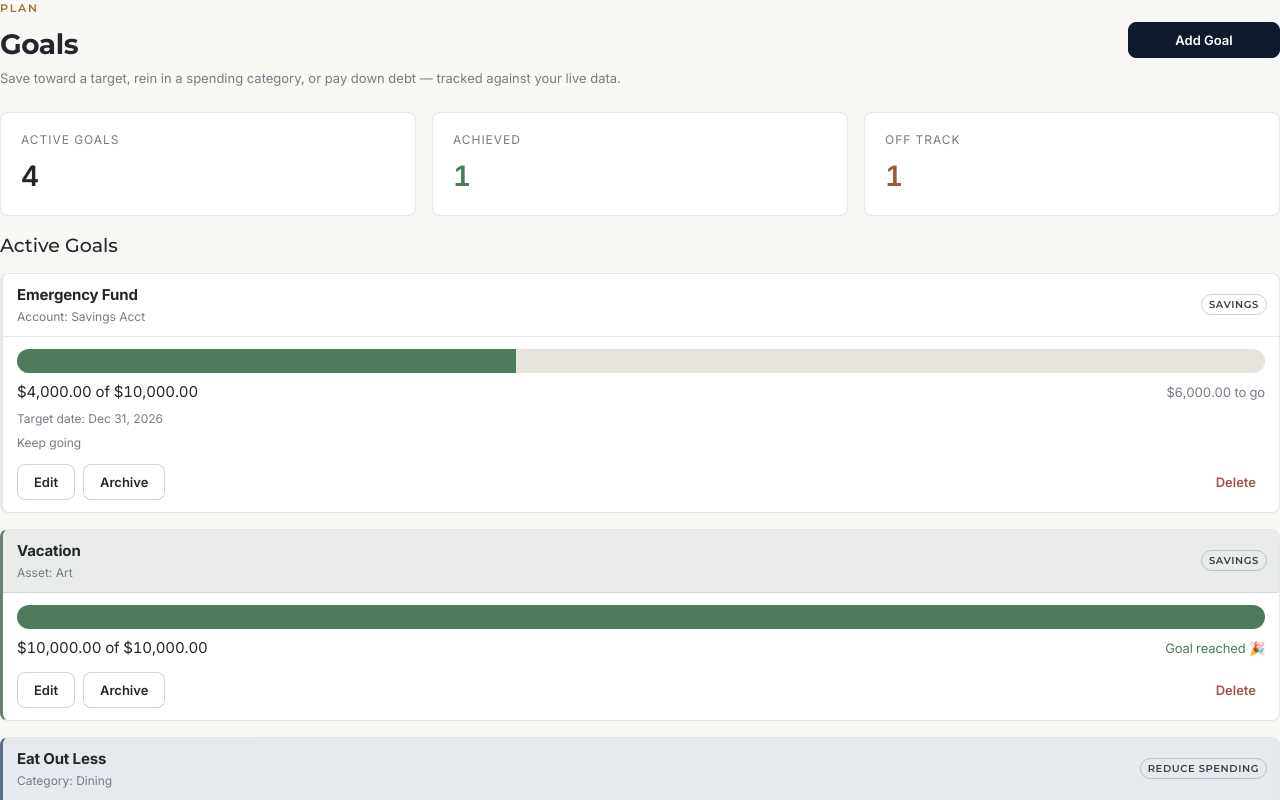
Scenario: Goals page › validates the reduce_spending required fields
Check: the text "Emergency Fund" is shown, box [17,284,145,306]
Click the button with class "head-add": (1204, 40) [1128,22,1279,58]
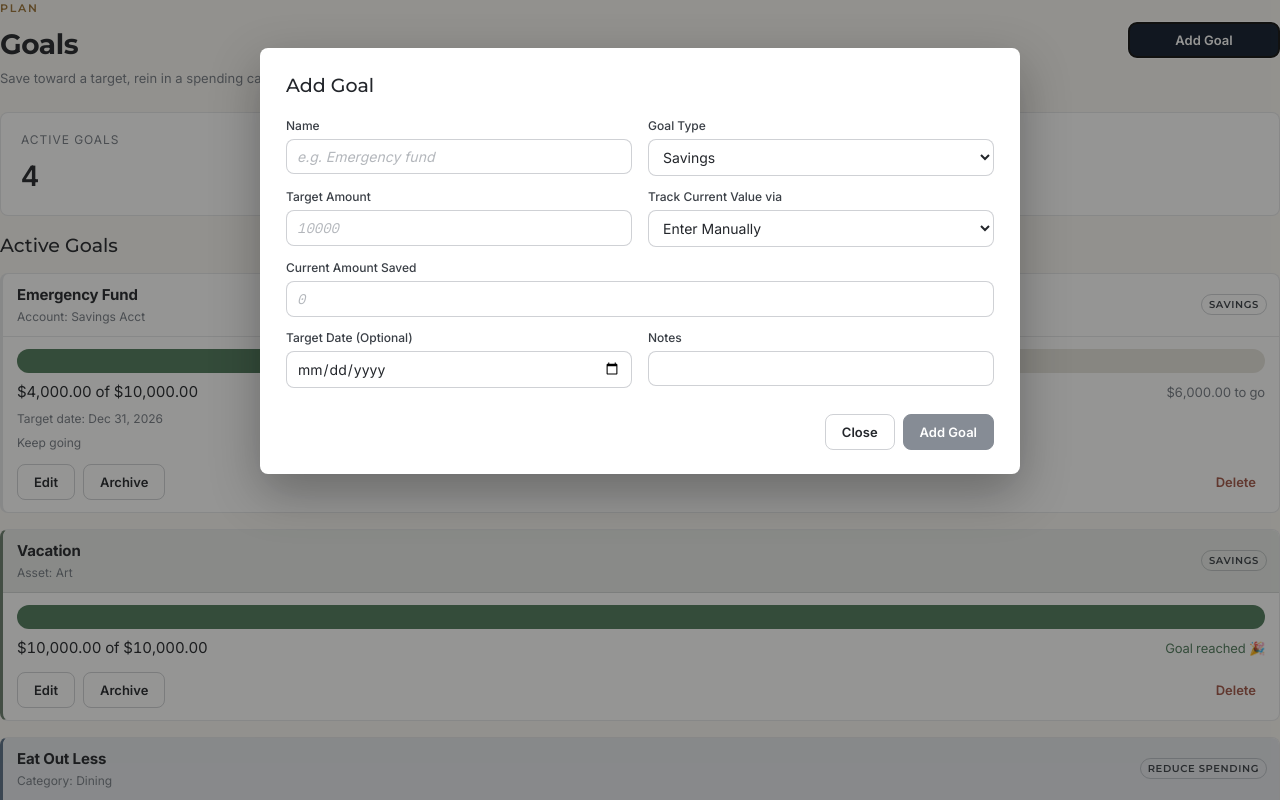
Check: the element that starts with "Add Goal" is shown
In the field with placeholder "e.g. Emergency fund": (459, 156) [286,138,632,174], type "Cap"
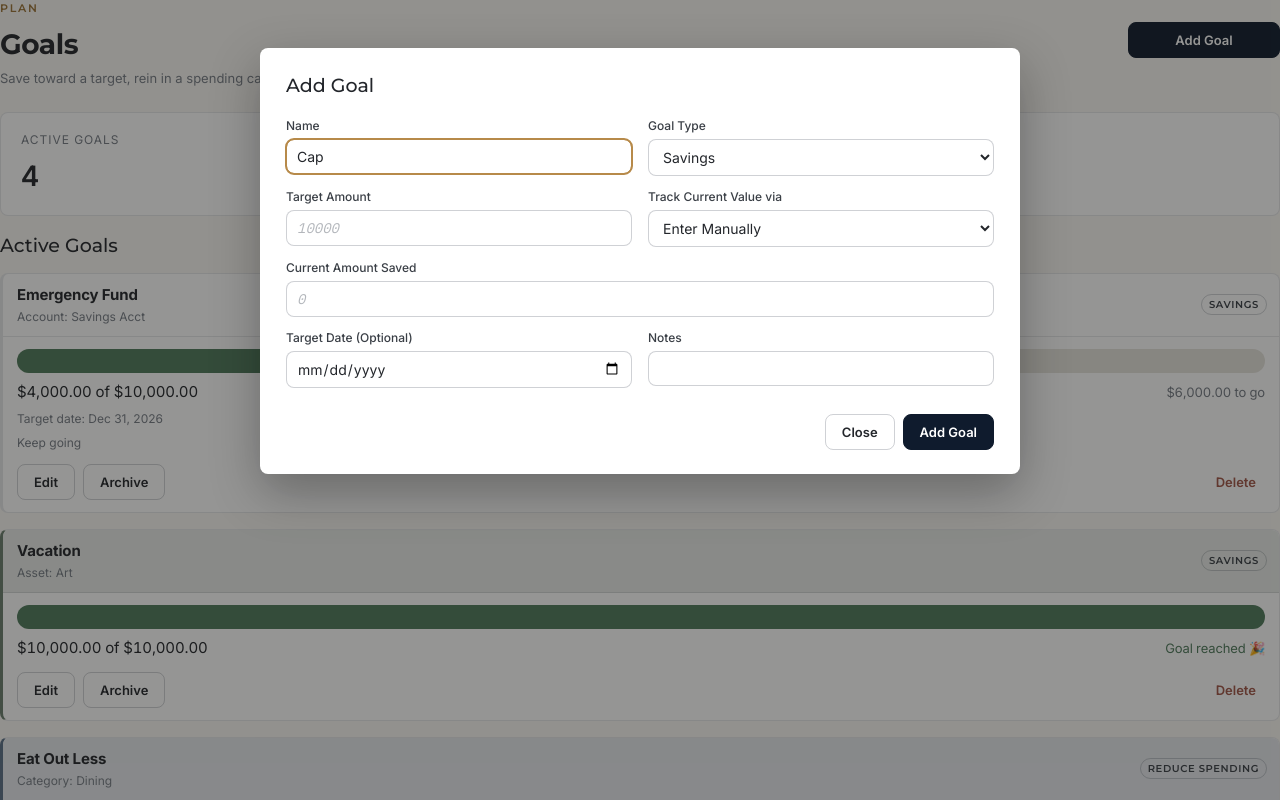
Select "Reduce Spending" in the dropdown showing "Savings": (821, 157) [648,138,994,176]
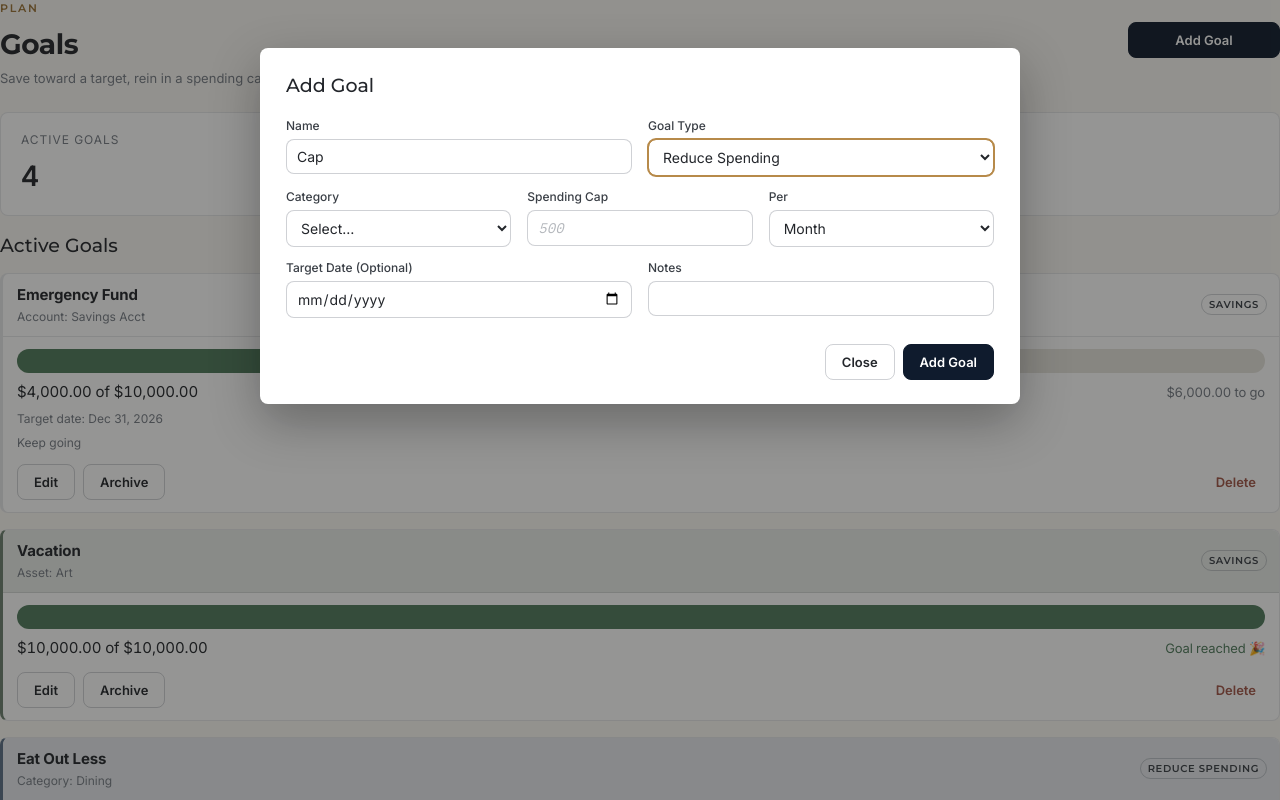
Click the button "Add Goal": (948, 362) [903,344,994,380]
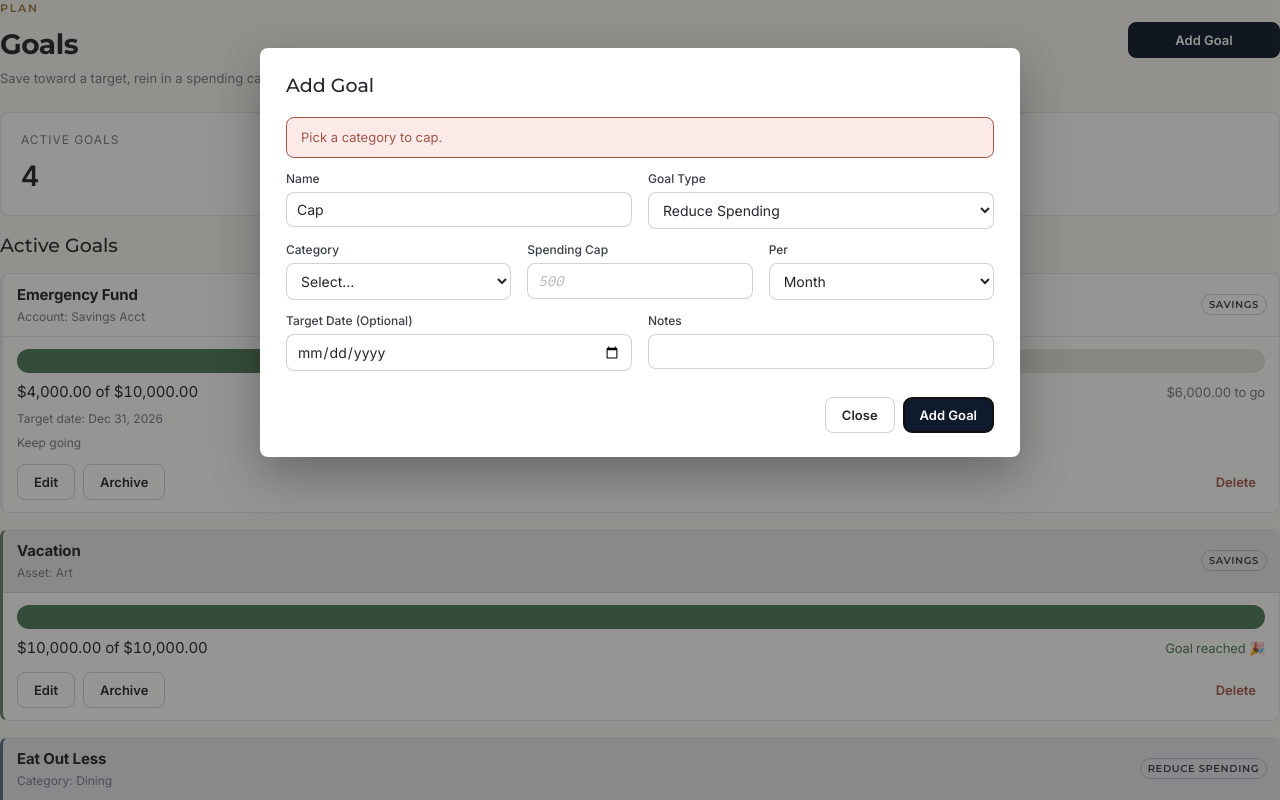
Check: the text "Pick a category to cap." is shown, box [286,116,994,158]
Select "Food (whole group)" in the dropdown "Select…": (399, 282) [286,263,511,300]
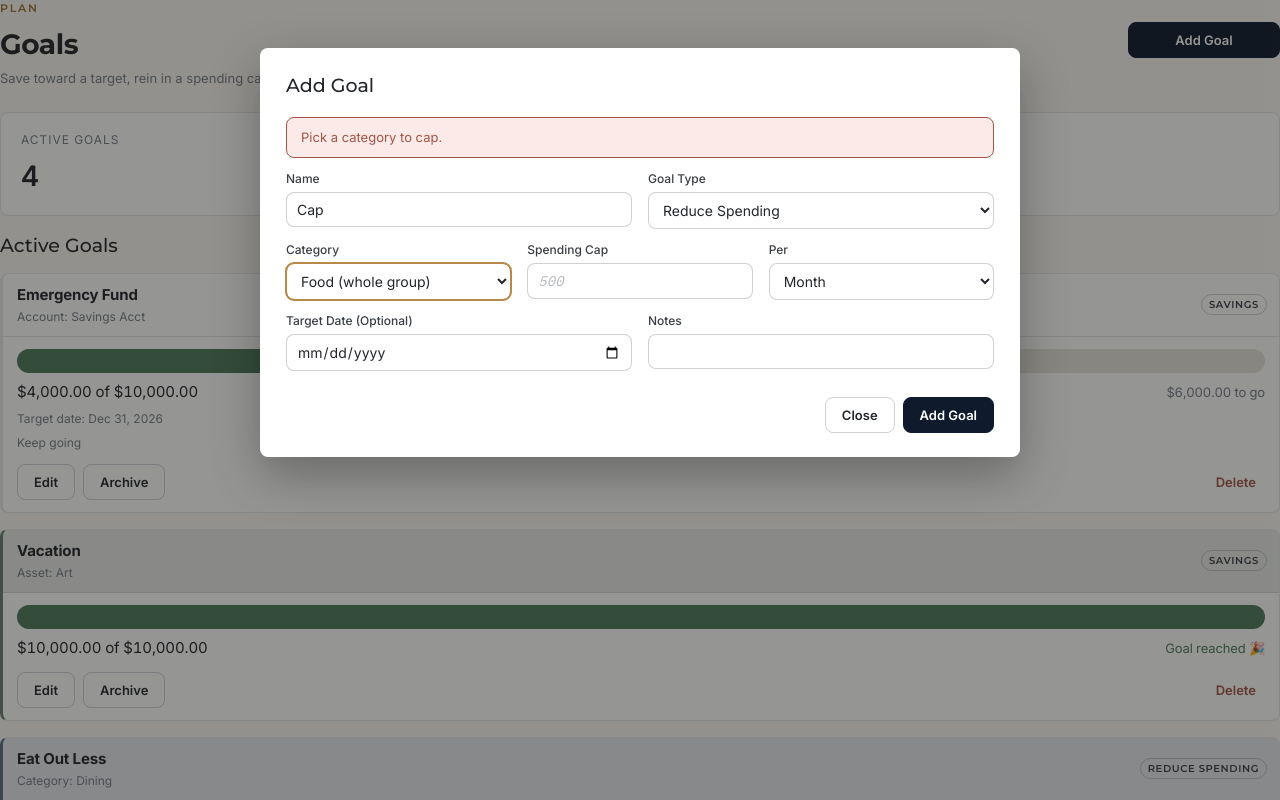
Click the button "Add Goal": (948, 415) [903,397,994,433]
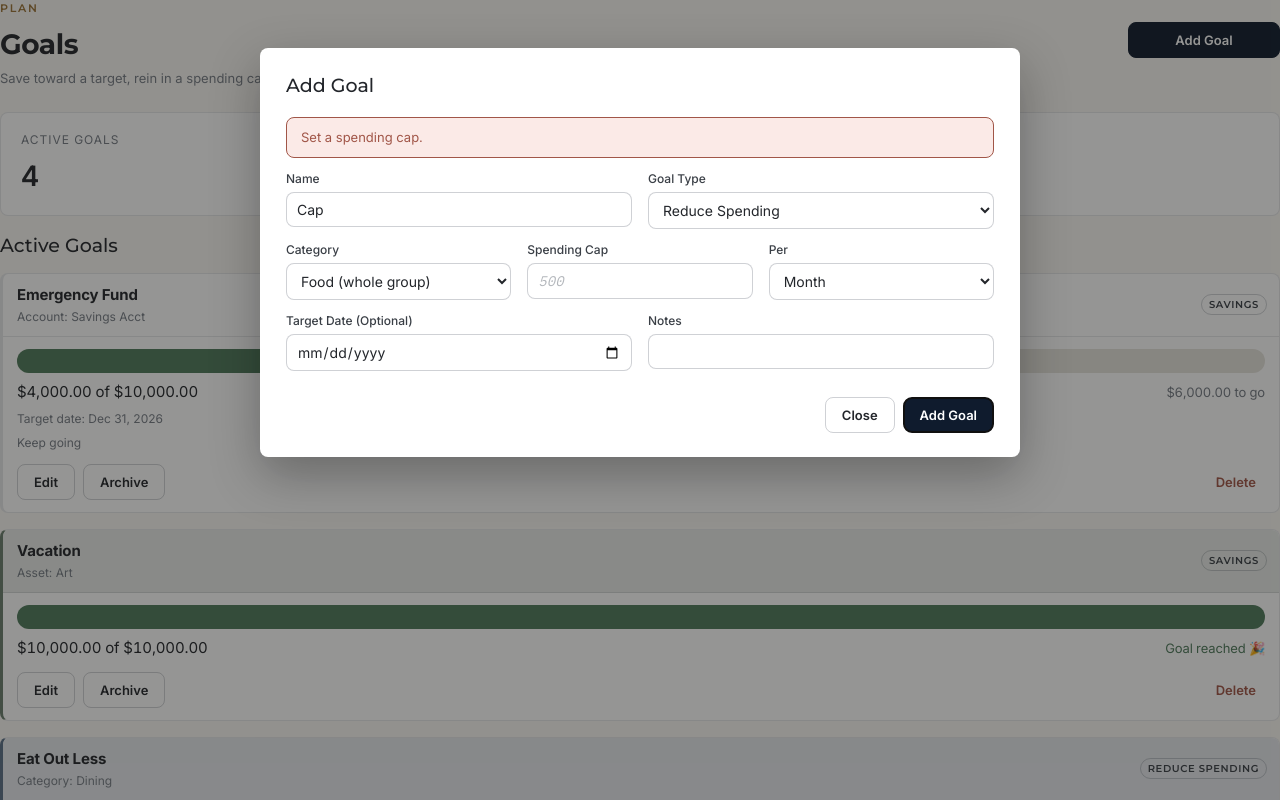
Check: the text "Set a spending cap." is shown, box [286,116,994,158]
